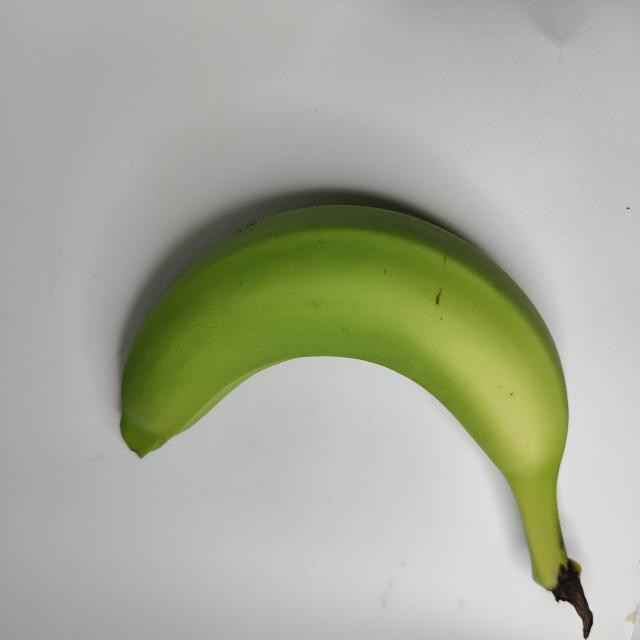raw: (83, 171, 601, 639)
